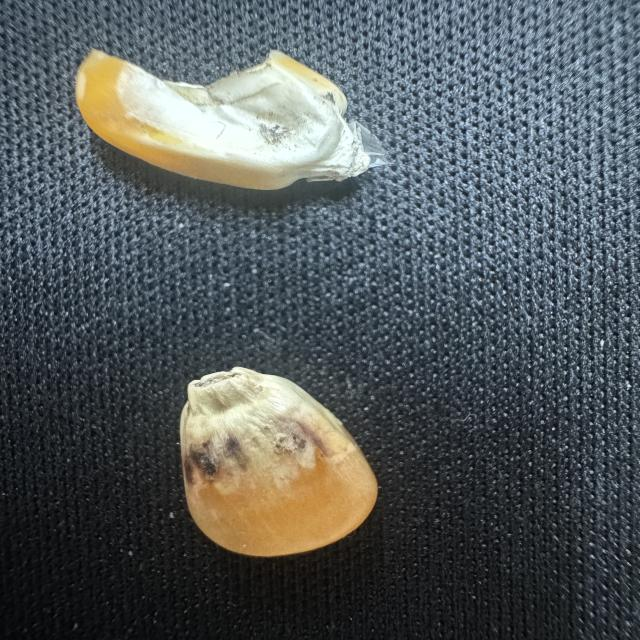Bad-Seed: (71, 46, 395, 196), (173, 362, 384, 560)
